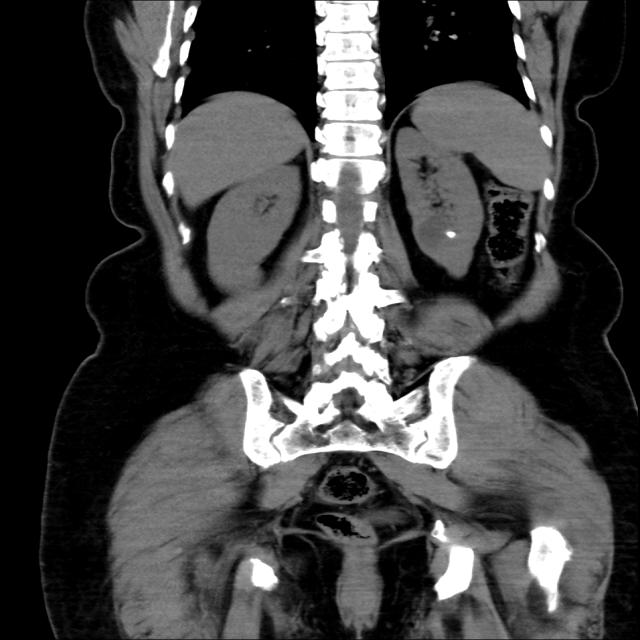kidneystone: (446, 231, 456, 238)
